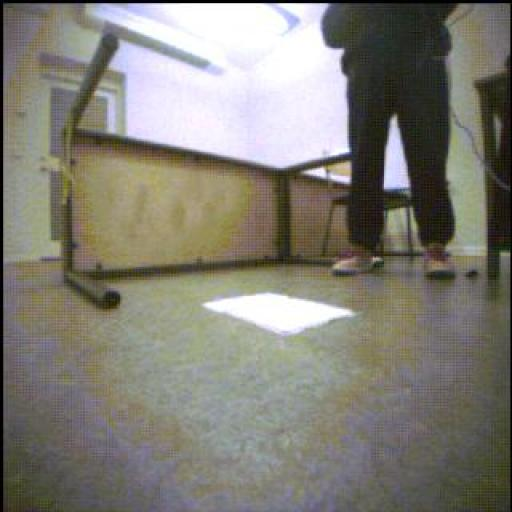Pad: (204, 294, 356, 337)
